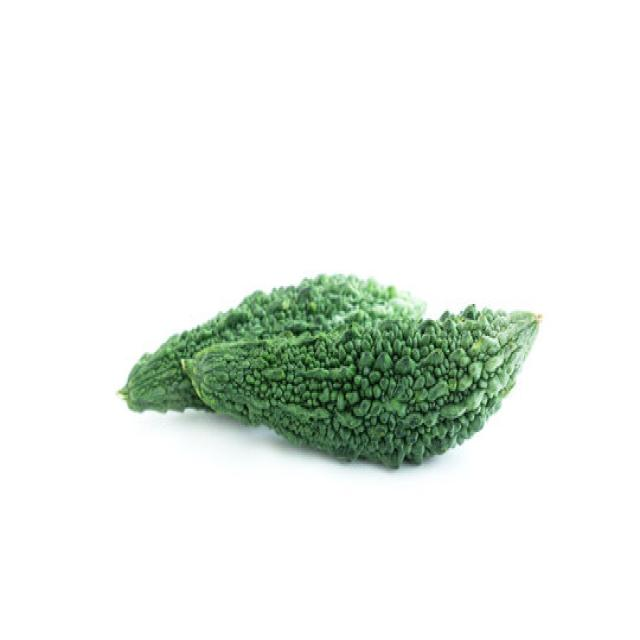Bitter_Gourd: (116, 270, 542, 470)
